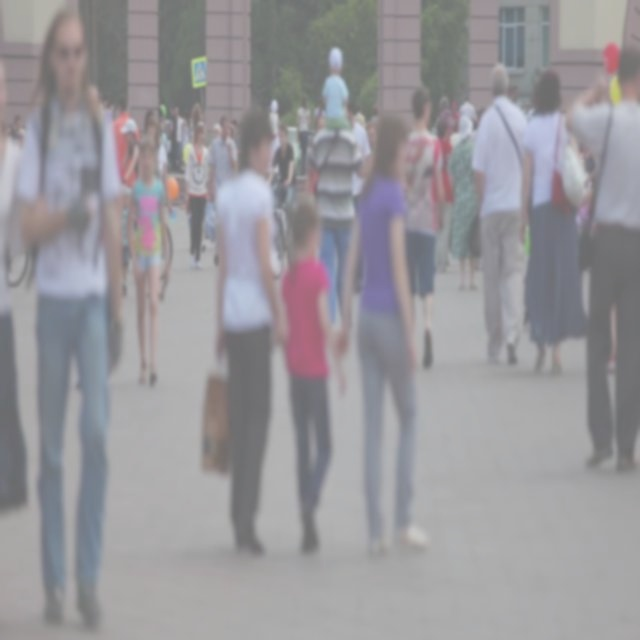pessoa: (15, 8, 126, 631), (332, 112, 430, 560), (213, 105, 289, 556), (564, 44, 640, 476), (276, 196, 348, 555), (517, 64, 592, 382), (470, 63, 530, 364), (0, 53, 37, 519), (304, 100, 369, 336), (123, 130, 171, 390), (402, 85, 445, 372), (447, 114, 481, 294), (208, 114, 238, 270), (184, 118, 212, 270), (346, 96, 374, 219), (266, 122, 298, 228), (142, 111, 174, 216), (435, 116, 456, 275), (110, 94, 140, 190), (322, 46, 350, 122), (581, 143, 602, 230), (84, 80, 130, 115), (353, 88, 379, 147), (118, 118, 140, 186), (264, 112, 282, 190), (296, 94, 312, 178), (1, 110, 27, 148), (438, 96, 456, 139), (228, 116, 242, 162), (169, 102, 178, 170), (457, 94, 477, 122), (180, 108, 192, 154), (174, 104, 182, 172), (312, 93, 326, 131), (268, 100, 280, 140), (192, 100, 202, 130), (511, 80, 520, 104), (158, 96, 166, 119), (212, 121, 222, 139), (451, 97, 458, 116), (277, 109, 282, 128)
